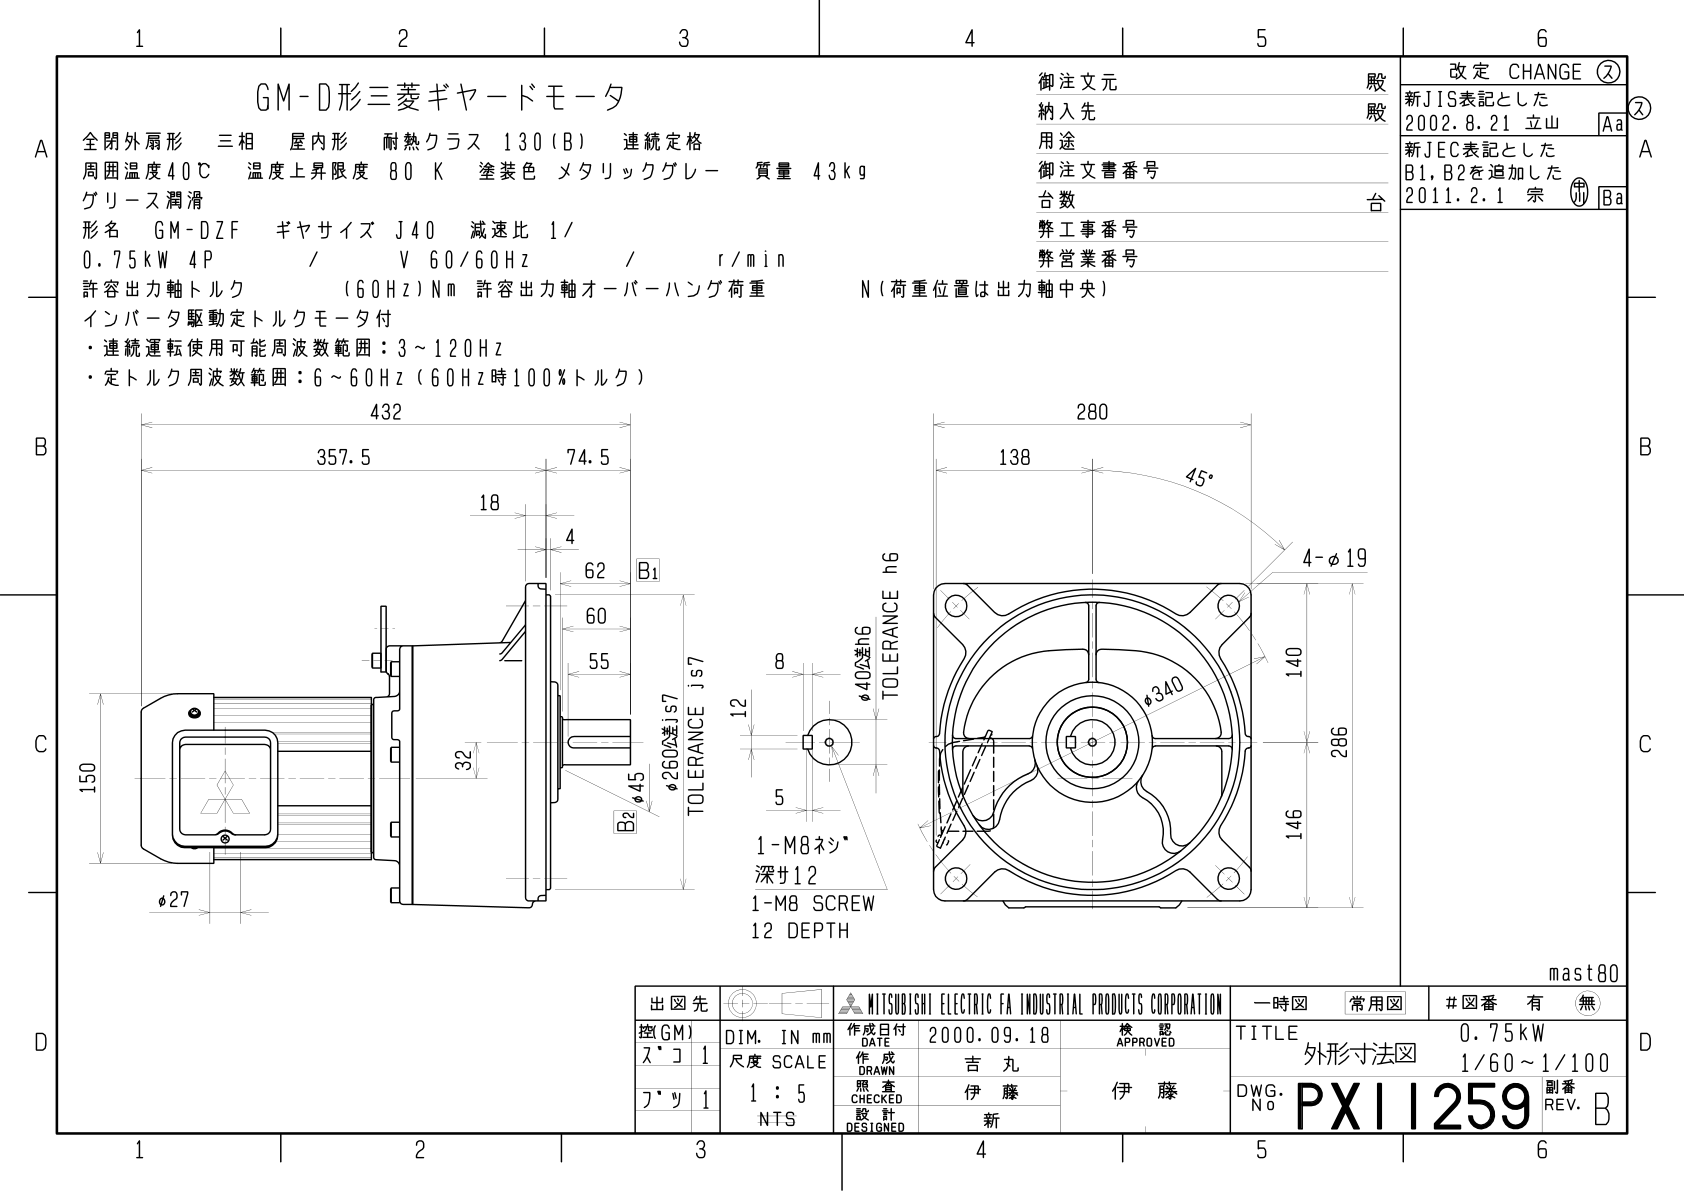GM_D_インバータ屋内_三相_フランジ: (10, 9, 1684, 1174)
